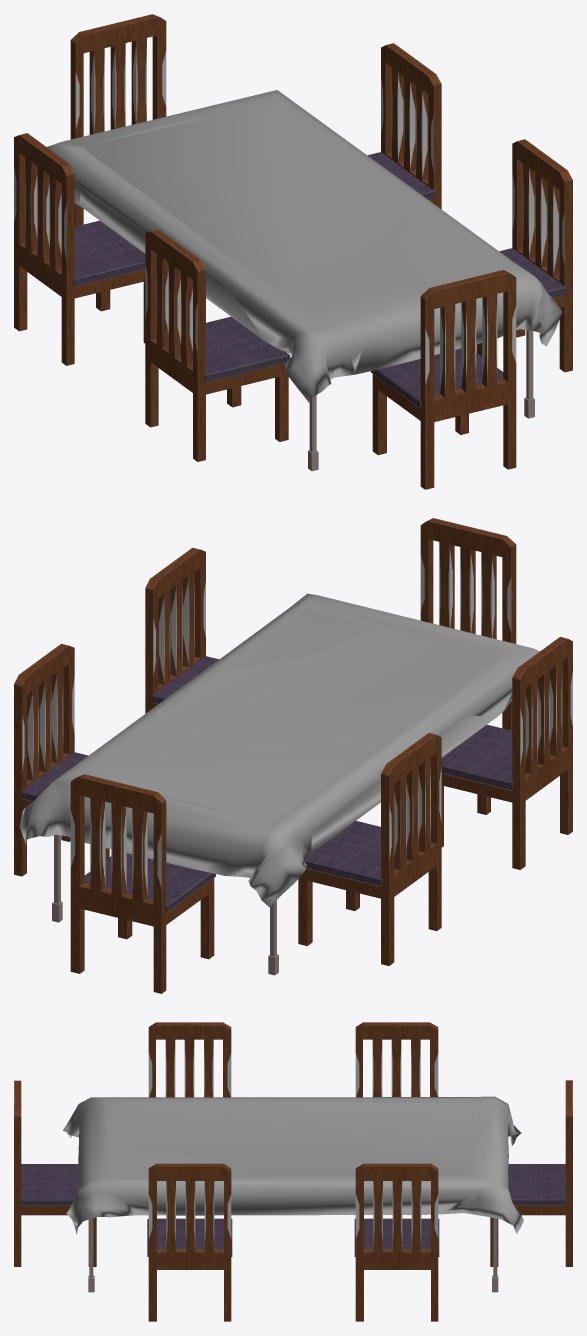
The model's file is dining-set.lod0.glb.
3 views of the same model, one above another, from view 1: azimuth 30°, elevation 25°; view 2: azimuth 150°, elevation 25°; view 3: azimuth 270°, elevation 25° (orthographic). The views are drawn at different scales.
Parts seen in each view (by area): view 1: Table_TableMat_0, Chair_a_Chair_Mat_0; view 2: Table_TableMat_0, Chair_a_Chair_Mat_0; view 3: Table_TableMat_0, Chair_a_Chair_Mat_0.
Boxes of the visible parts, x1=… form: Table_TableMat_0: x1=47, y1=90, x2=562, y2=471; Chair_a_Chair_Mat_0: x1=14, y1=14, x2=572, y2=489; Table_TableMat_0: x1=20, y1=593, x2=539, y2=975; Chair_a_Chair_Mat_0: x1=14, y1=518, x2=572, y2=993; Table_TableMat_0: x1=63, y1=1096, x2=523, y2=1292; Chair_a_Chair_Mat_0: x1=14, y1=1022, x2=572, y2=1321.
Bounding box in the file's own units: 1.9 × 0.9501 × 3.11.
Materials: 2 (1 with a texture image).
